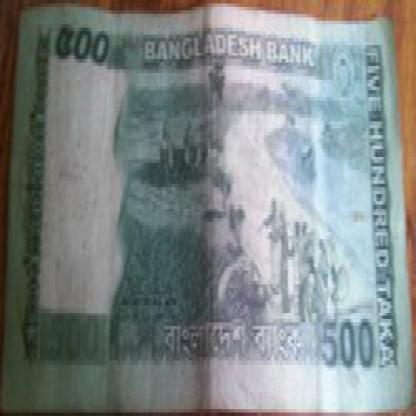500 taka: (26, 20, 119, 86)
currency: (4, 14, 410, 402)
